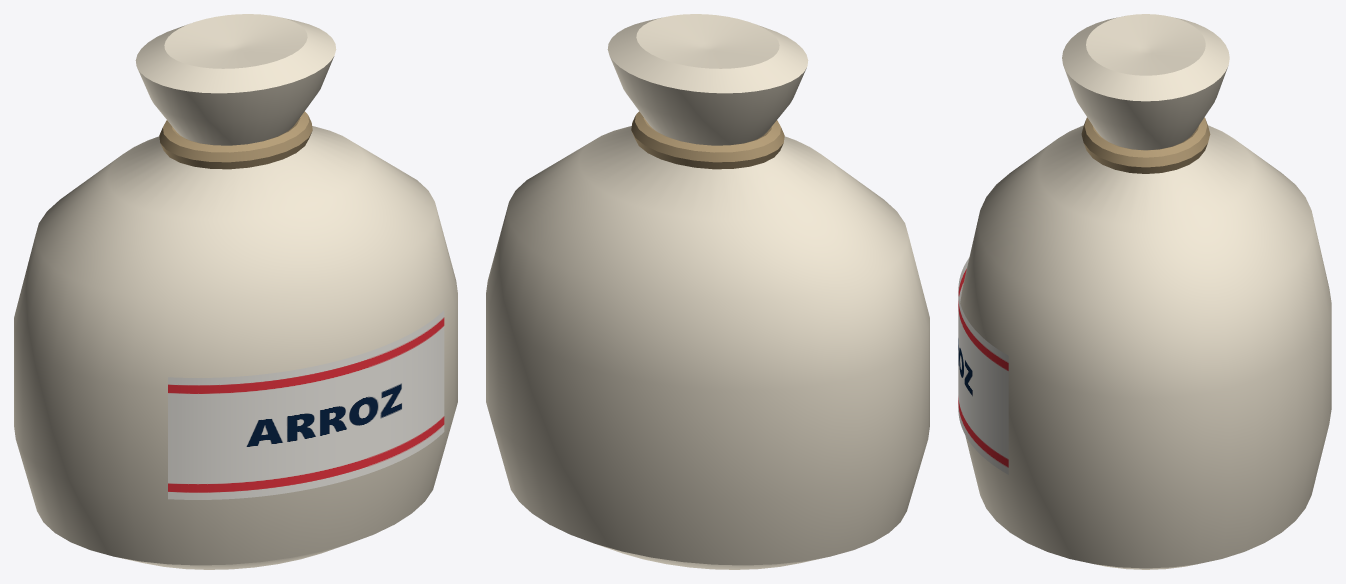
The model's file is arroz.fbx.
3 views of the same model, side by side, from view 1: azimuth 30°, elevation 25°; view 2: azimuth 150°, elevation 25°; view 3: azimuth 270°, elevation 25° (orthographic). The views are drawn at different scales.
Parts seen in each view (by area): view 1: ece3d0, etiqueta, b29a73; view 2: ece3d0, b29a73; view 3: ece3d0, etiqueta, b29a73.
Boxes of the visible parts, x1=… form: ece3d0: x1=14, y1=14, x2=457, y2=569; etiqueta: x1=168, y1=310, x2=444, y2=499; b29a73: x1=159, y1=111, x2=312, y2=169; ece3d0: x1=486, y1=14, x2=929, y2=569; b29a73: x1=631, y1=111, x2=784, y2=169; ece3d0: x1=960, y1=14, x2=1331, y2=569; etiqueta: x1=958, y1=258, x2=1008, y2=474; b29a73: x1=1081, y1=117, x2=1210, y2=173.
Size of the model in its own units: 1.51 by 1.7 by 1.24.
Materials: 3 (1 with a texture image).
